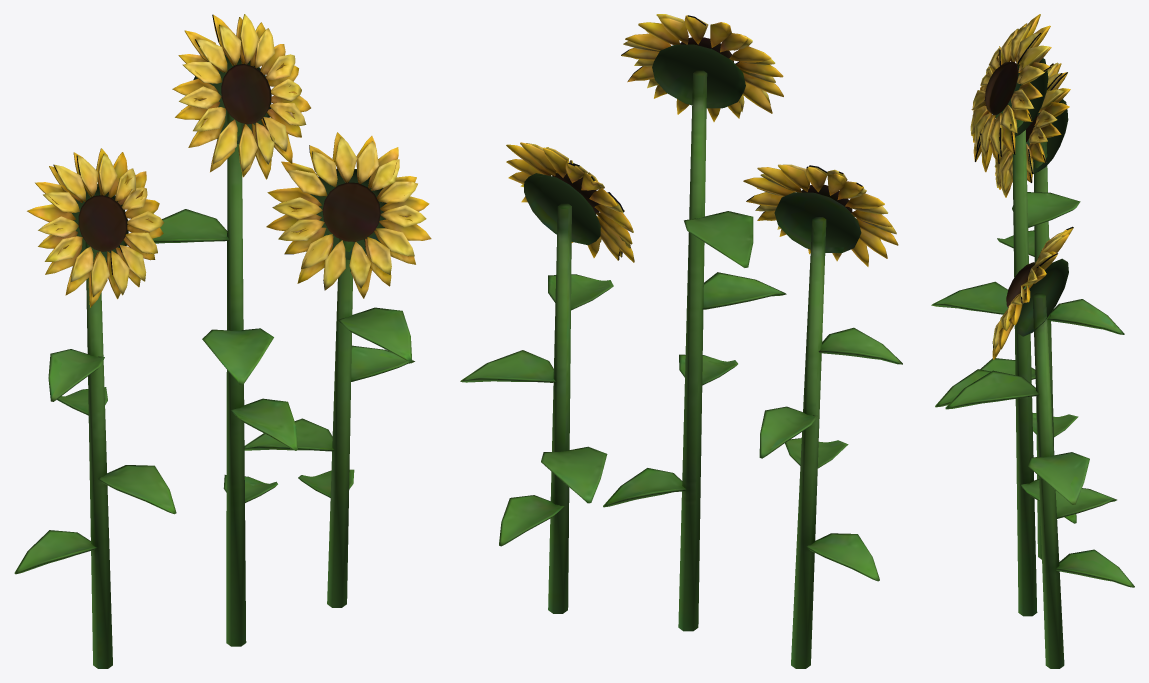
The model's file is sunflowers.glb.
3 views of the same model, side by side, from view 1: azimuth 30°, elevation 25°; view 2: azimuth 150°, elevation 25°; view 3: azimuth 270°, elevation 25° (orthographic). The views are drawn at different scales.
Visible parts, largest first — view 1: sunflowers; view 2: sunflowers; view 3: sunflowers.
Boxes of the visible parts, x1,y1,x2,y2 form: sunflowers: (14, 14, 431, 668); sunflowers: (460, 14, 902, 668); sunflowers: (931, 14, 1134, 668).
Bounding box in the file's own units: 1.13 × 1.65 × 0.5235.
Materials: 1 (1 with a texture image).
